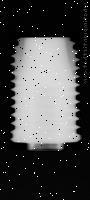Hiossen: (10, 32, 81, 150)
